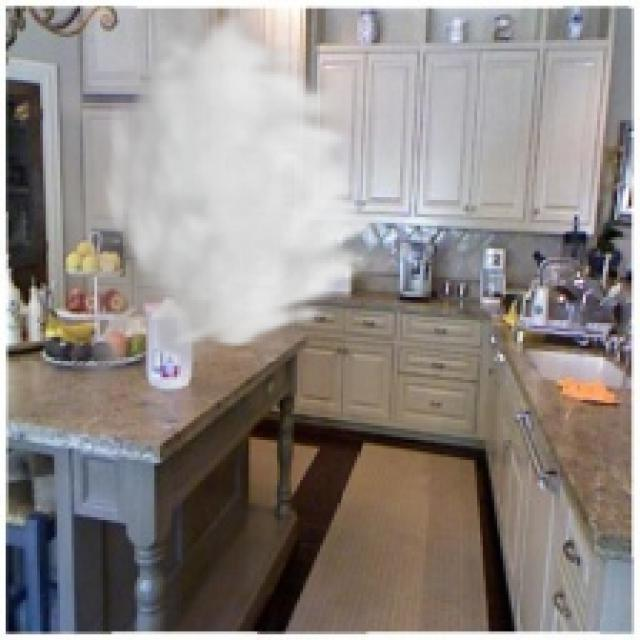Smoke: (34, 11, 389, 423)
